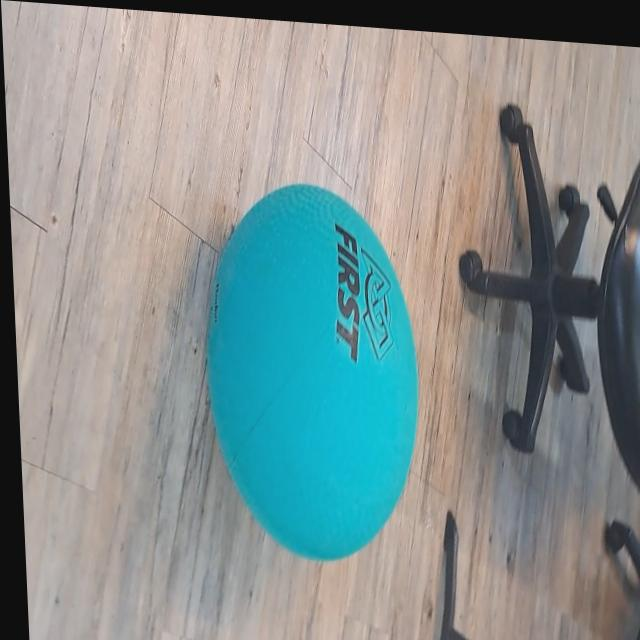ALGAE: (196, 172, 428, 570)
